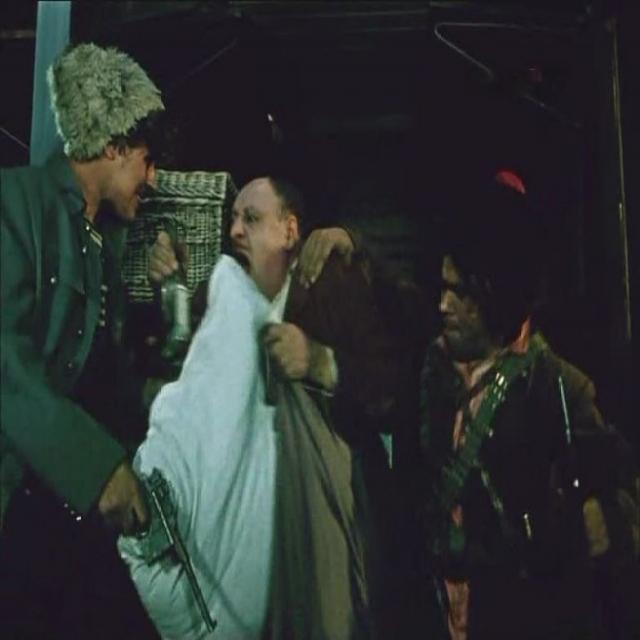gun-knife-thesis - v11 Yolov5 augmented: (94, 463, 218, 636)
